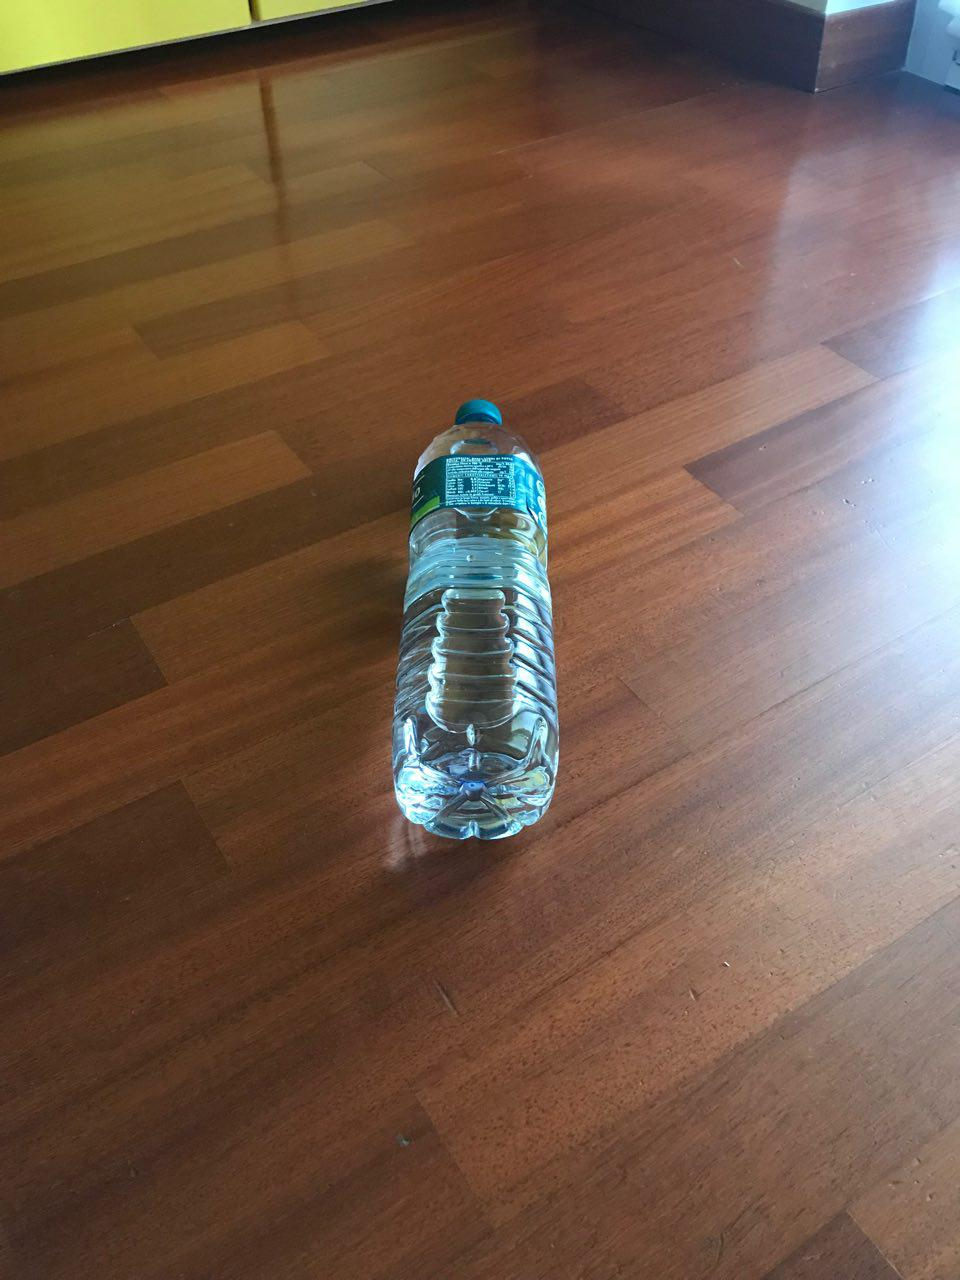san_bernardo: (389, 396, 562, 844)
